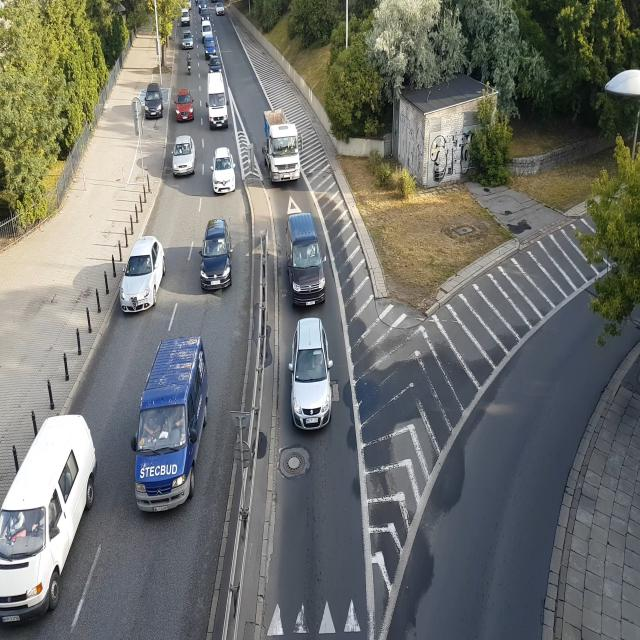car: (0, 419, 92, 629), (126, 329, 216, 534), (285, 314, 335, 446), (288, 214, 328, 312), (123, 232, 163, 317), (198, 212, 234, 292), (207, 149, 241, 196), (167, 131, 198, 182), (206, 73, 229, 132), (171, 85, 197, 124), (142, 84, 165, 117), (209, 56, 223, 74), (204, 37, 217, 55), (181, 30, 194, 48), (200, 22, 212, 36), (182, 9, 190, 26), (215, 4, 225, 17), (200, 10, 210, 20), (199, 0, 207, 11)
motorcycle: (183, 54, 198, 80), (194, 0, 198, 6)
truck: (260, 102, 304, 194)
